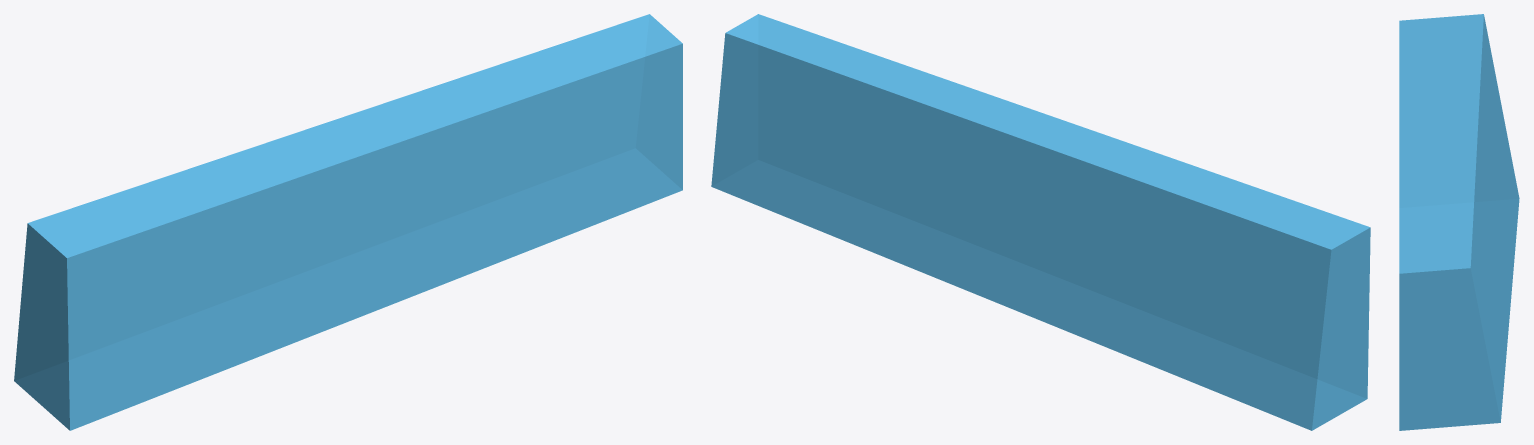
The model's file is Event_420604493_HErechit_50.fbx.
3 views of the same model, side by side, from view 1: azimuth 30°, elevation 25°; view 2: azimuth 150°, elevation 25°; view 3: azimuth 270°, elevation 25° (orthographic). The views are drawn at different scales.
Parts seen in each view (by area): view 1: Model; view 2: Model; view 3: Model.
Part boxes in pixels (bbox=[...]): Model: bbox=[14, 14, 682, 430]; Model: bbox=[711, 14, 1370, 430]; Model: bbox=[1399, 14, 1519, 430].
Bounding box in the file's own units: 2.05 × 0.7743 × 0.3236.
